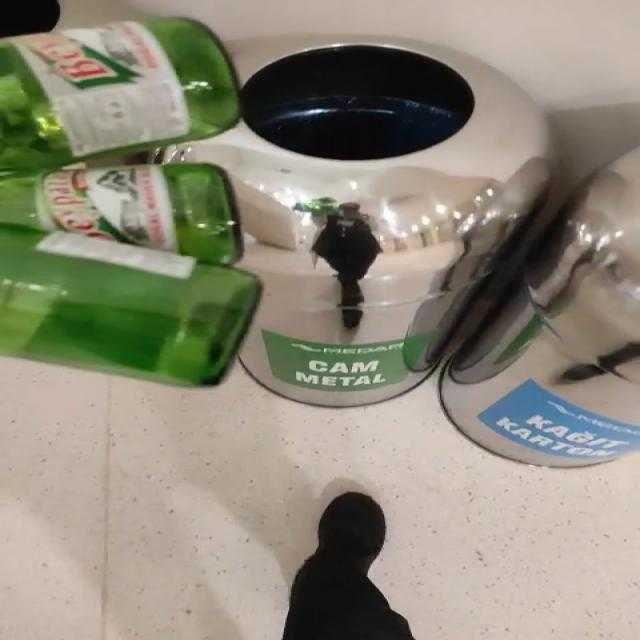bin: (184, 36, 549, 407)
glass: (0, 17, 261, 385)
